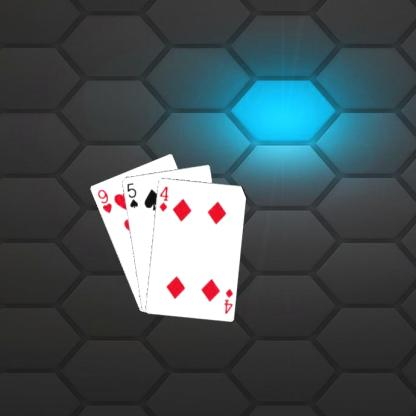4D: (156, 184, 170, 212), (221, 286, 234, 314)
5S: (124, 180, 139, 209)
9H: (94, 186, 112, 215)
